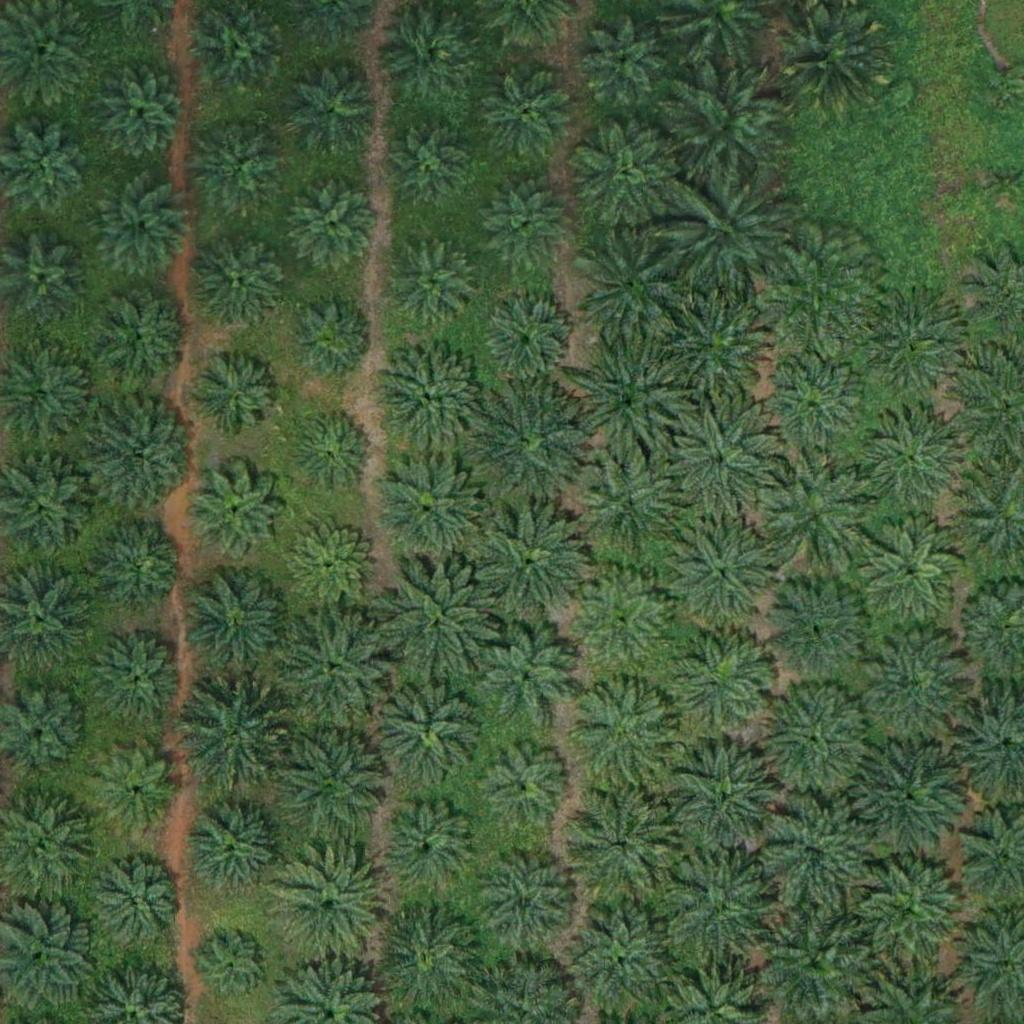Kelapa_Sawit: (762, 235, 875, 349), (674, 67, 787, 181), (674, 174, 787, 288), (85, 397, 198, 511), (182, 567, 295, 681), (174, 680, 287, 794), (180, 789, 293, 902), (272, 851, 385, 964), (371, 340, 484, 453), (372, 456, 485, 569), (475, 389, 588, 502), (473, 507, 586, 620), (569, 679, 682, 792), (561, 788, 674, 901), (654, 289, 767, 402), (757, 351, 870, 464), (761, 458, 874, 571), (758, 572, 871, 685), (861, 626, 974, 739), (853, 736, 966, 849), (855, 857, 968, 970), (666, 856, 779, 969), (566, 907, 679, 1020), (280, 612, 392, 726), (277, 724, 389, 838), (374, 792, 486, 906), (852, 283, 964, 397), (856, 398, 968, 512), (371, 904, 483, 1018), (570, 118, 682, 231), (577, 232, 689, 345), (87, 167, 199, 280), (381, 562, 493, 675), (375, 675, 487, 788), (572, 347, 684, 460), (574, 449, 686, 562), (663, 408, 775, 521), (664, 519, 776, 632), (669, 743, 781, 856), (757, 686, 869, 799), (758, 798, 870, 911), (760, 908, 872, 1021), (478, 59, 578, 160), (379, 4, 479, 105), (283, 59, 383, 160), (188, 116, 288, 217), (189, 229, 289, 330), (89, 66, 189, 167), (474, 624, 574, 725), (570, 570, 670, 671), (670, 630, 770, 731), (860, 517, 960, 618), (87, 516, 187, 616), (87, 630, 187, 730), (184, 462, 284, 562), (477, 853, 577, 953), (480, 180, 568, 268), (485, 297, 573, 385), (382, 122, 470, 210), (92, 862, 180, 950), (191, 353, 279, 441), (289, 407, 377, 495), (286, 521, 374, 609), (389, 239, 476, 328), (289, 179, 376, 268), (580, 15, 667, 103), (195, 1, 282, 89), (97, 292, 184, 380), (92, 746, 179, 834), (287, 295, 374, 383), (483, 743, 570, 831), (203, 935, 266, 998), (985, 164, 1022, 202)
